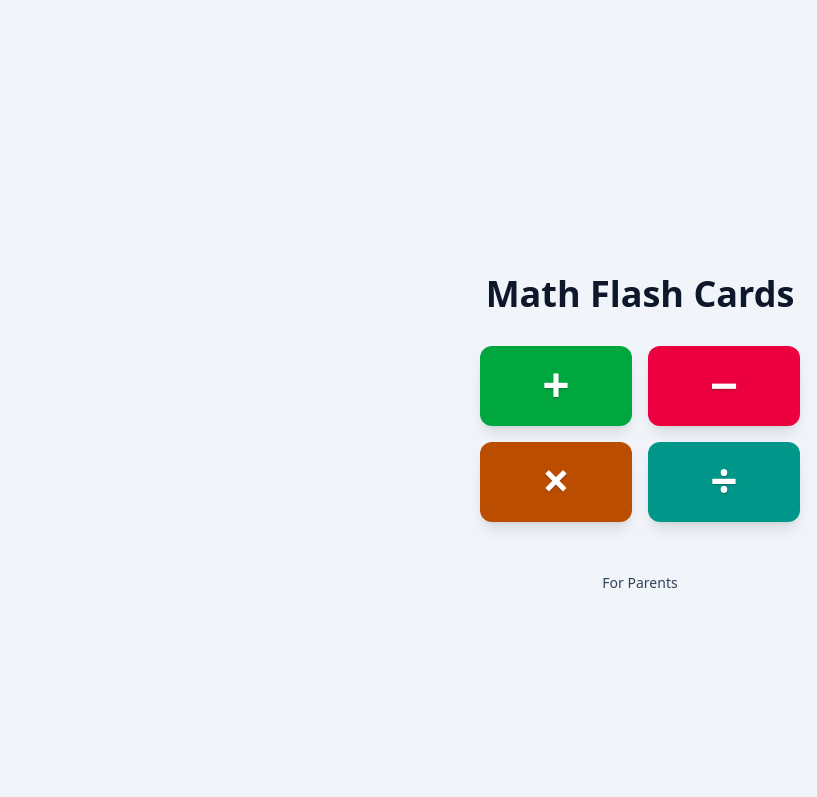
Scenario: App user journeys › Subtraction flow › Home → Subtraction menu → Practice → Back → menu → Home
# Navigate to subtraction menu
Click the link named "subtraction" at (724, 386), box [648,346,800,426]
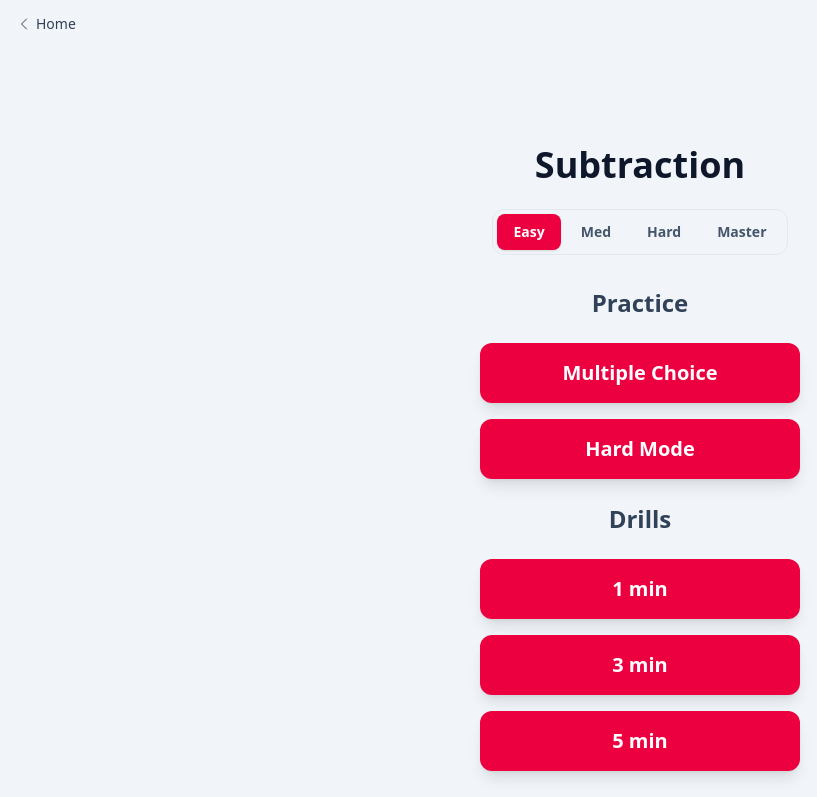
Check: the heading "Subtraction" is shown, box [535,145,745,185]
# Navigate to practice (multiple choice)
Click the link "Multiple Choice" at (640, 373), box [480,343,800,403]
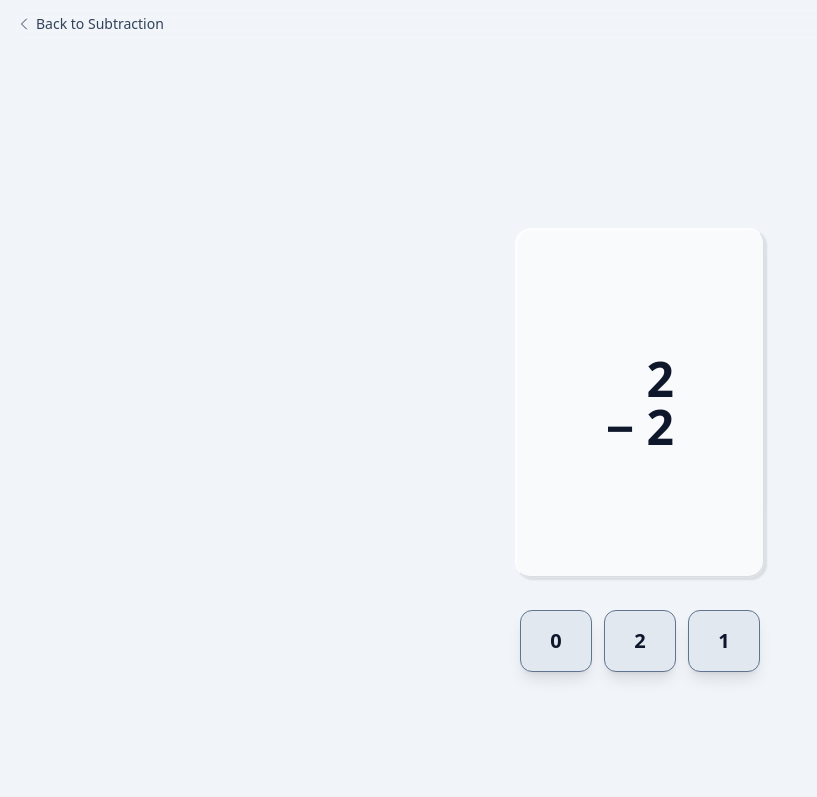
# Click Back → returns to SubtractionMenu
Click the link "Back to Subtraction" at (90, 24), box [16,14,164,34]
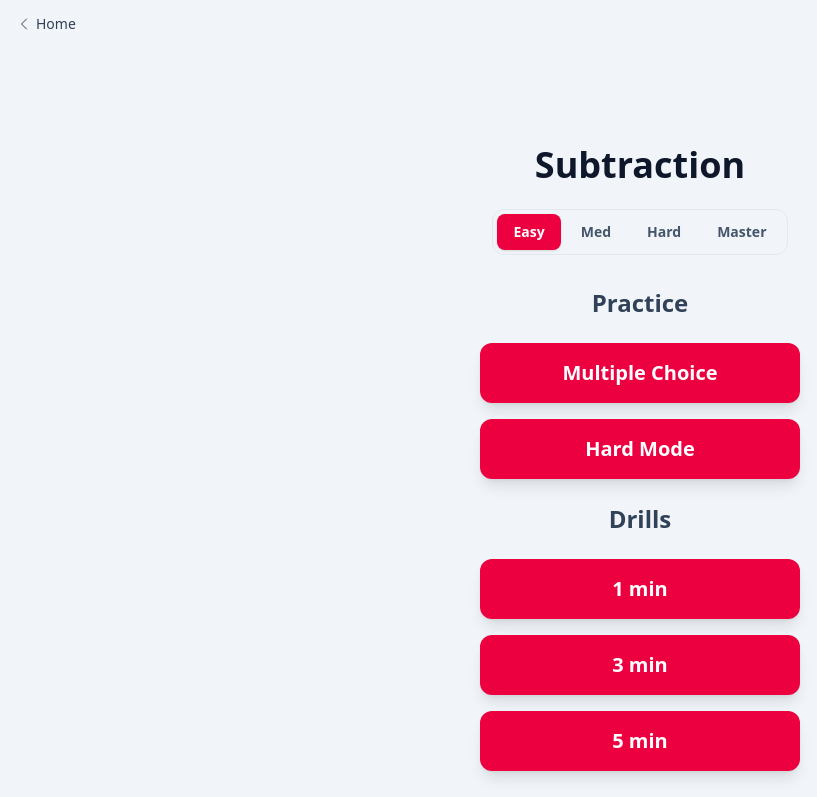
Check: the heading "Subtraction" is shown, box [535,145,745,185]
# Click Home → returns to home screen
Click the link "Home" at (46, 24), box [16,14,76,34]
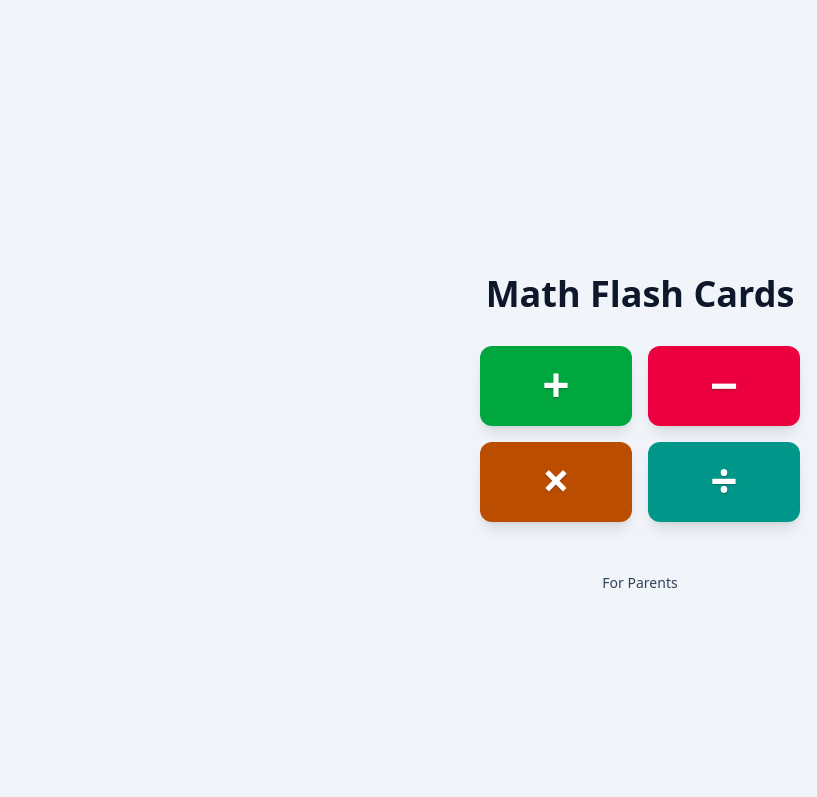
Check: the heading "Math Flash Cards" is shown, box [486,274,794,314]
